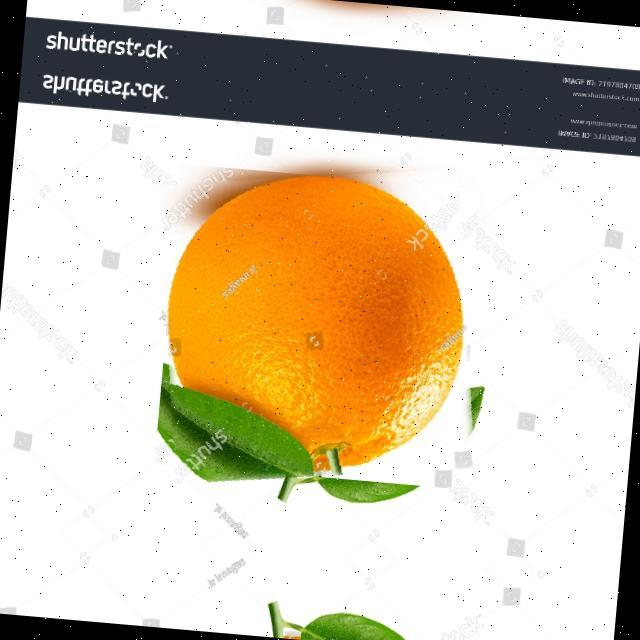Orange: (165, 173, 464, 474)
